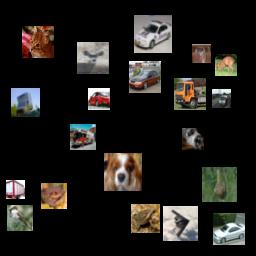airplane: (163, 206, 198, 241)
automobile: (134, 15, 172, 53), (129, 61, 161, 93), (213, 213, 245, 245), (88, 88, 110, 110)
bird: (202, 167, 237, 202), (7, 205, 33, 231)
cat: (22, 26, 54, 58), (182, 128, 204, 150)
deer: (77, 42, 109, 74), (215, 54, 237, 76)
dog: (104, 153, 142, 191), (192, 44, 211, 63)
frog: (131, 204, 160, 233), (41, 183, 67, 209)
truck: (174, 78, 206, 110), (11, 88, 40, 117), (70, 124, 96, 150), (212, 89, 231, 108), (6, 180, 25, 199)
